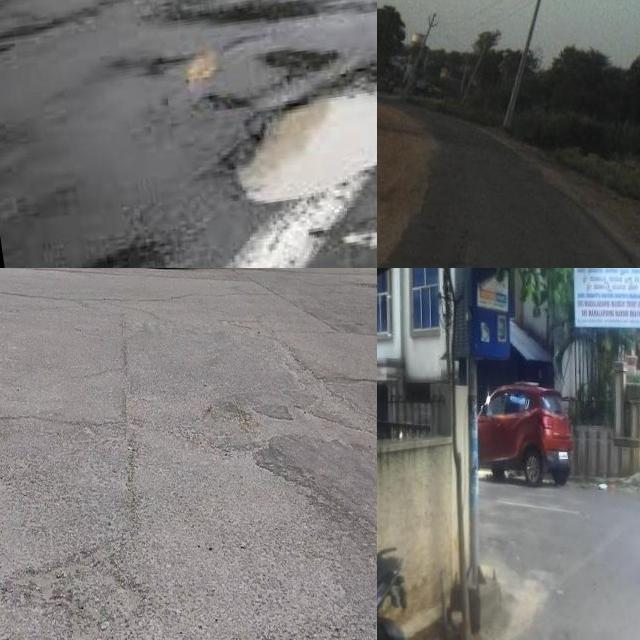Pothole: (236, 52, 377, 202), (238, 92, 377, 202), (93, 247, 165, 268), (452, 229, 484, 268), (186, 50, 218, 83), (205, 94, 251, 110), (147, 56, 187, 74)
